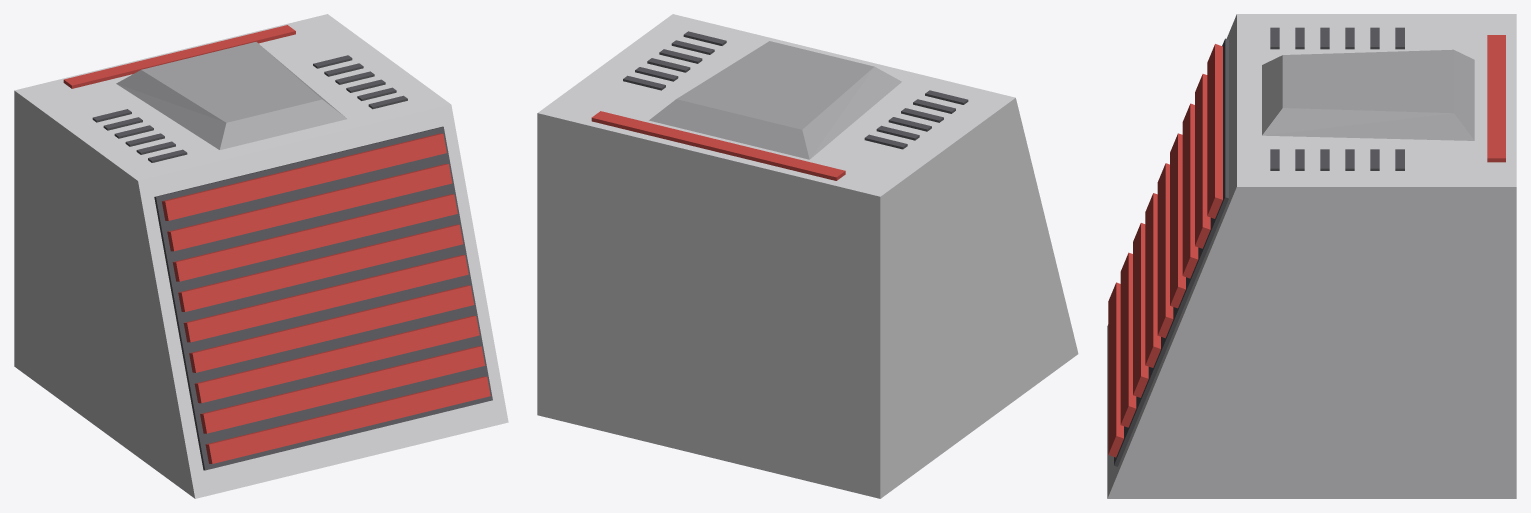
Rendered from vge_e_lateral_thruster.obj.
The picture shows the model from 3 angles, left to right: view 1: azimuth 30°, elevation 25°; view 2: azimuth 150°, elevation 25°; view 3: azimuth 270°, elevation 25°; orthographic projection. The views are drawn at different scales.
Parts seen in each view (by area): view 1: vge_lateral_thruster_0, vge_lateral_thruster_1, vge_lateral_thruster_11, vge_lateral_thruster_7, vge_lateral_thruster_4, vge_lateral_thruster_2, vge_lateral_thruster_5, vge_lateral_thruster_9, vge_lateral_thruster_10, vge_lateral_thruster_3, vge_lateral_thruster_6, vge_lateral_thruster_8 (+1 smaller); view 2: vge_lateral_thruster_0, vge_lateral_thruster_11, vge_lateral_thruster_24; view 3: vge_lateral_thruster_0, vge_lateral_thruster_11, vge_lateral_thruster_1, vge_lateral_thruster_10, vge_lateral_thruster_24, vge_lateral_thruster_3, vge_lateral_thruster_6, vge_lateral_thruster_8, vge_lateral_thruster_7, vge_lateral_thruster_2, vge_lateral_thruster_5, vge_lateral_thruster_4 (+1 smaller).
Part boxes in pixels (x1,y1,x2,y2): vge_lateral_thruster_0: [14, 14, 508, 498]; vge_lateral_thruster_1: [154, 126, 492, 470]; vge_lateral_thruster_11: [116, 42, 346, 149]; vge_lateral_thruster_7: [178, 224, 463, 311]; vge_lateral_thruster_4: [194, 315, 479, 403]; vge_lateral_thruster_2: [205, 376, 490, 463]; vge_lateral_thruster_5: [189, 285, 474, 372]; vge_lateral_thruster_9: [167, 164, 452, 251]; vge_lateral_thruster_10: [162, 133, 446, 220]; vge_lateral_thruster_3: [200, 346, 484, 433]; vge_lateral_thruster_6: [183, 255, 468, 342]; vge_lateral_thruster_8: [172, 194, 457, 281]; vge_lateral_thruster_0: [537, 14, 1078, 498]; vge_lateral_thruster_11: [649, 41, 901, 159]; vge_lateral_thruster_24: [591, 111, 845, 180]; vge_lateral_thruster_0: [1107, 14, 1516, 498]; vge_lateral_thruster_11: [1262, 49, 1474, 140]; vge_lateral_thruster_1: [1114, 38, 1228, 466]; vge_lateral_thruster_10: [1207, 44, 1222, 218]; vge_lateral_thruster_24: [1487, 35, 1505, 162]; vge_lateral_thruster_3: [1120, 252, 1136, 427]; vge_lateral_thruster_6: [1157, 163, 1173, 338]; vge_lateral_thruster_8: [1182, 103, 1198, 278]; vge_lateral_thruster_7: [1170, 133, 1185, 308]; vge_lateral_thruster_2: [1108, 282, 1123, 457]; vge_lateral_thruster_5: [1145, 193, 1160, 367]; vge_lateral_thruster_4: [1133, 223, 1148, 397].
Size of the model in its own units: 1.96 by 1.75 by 1.96.
